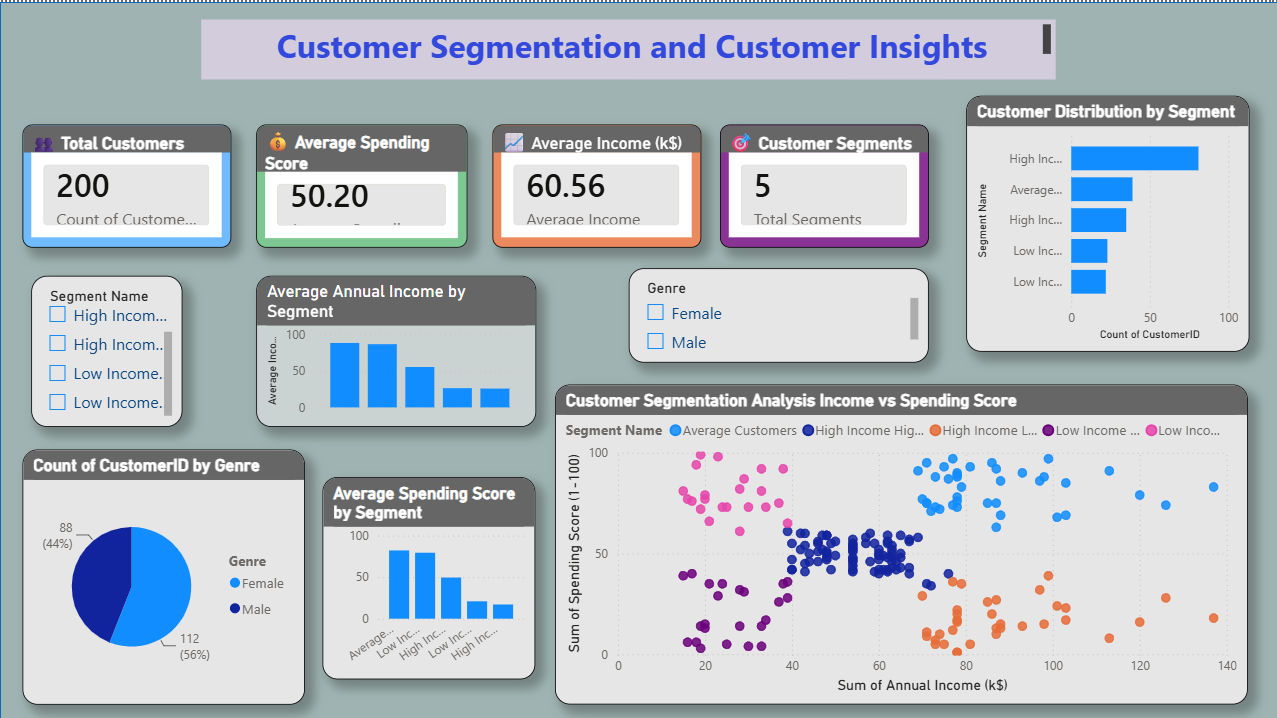

The dashboard page shown, as its layout file describes it:
{"tool":"powerbi","page":{"name":"Page 1","canvas":[1280,720],"ordinal":0},"visuals":[{"type":"shape","box":[0,0,1280,720],"z":0},{"type":"clusteredBarChart","title":"Customer Distribution by Segment","fields":{"Category":["Customer_Segments_Output.Segment Name"],"Y":["CountNonNull(Customer_Segments_Output.CustomerID)"]},"box":[965.7,94.3,282.9,255.7],"z":1000},{"type":"cardVisual","title":"👥 Total Customers","fields":{"Data":["CountNonNull(Customer_Segments_Output.CustomerID)"]},"box":[22.9,122.9,208.6,122.9],"z":2000},{"type":"cardVisual","title":"📈 Average Income (k$)","fields":{"Data":["Customer_Segments_Output.Average Income"]},"box":[492.9,122.9,208.6,122.9],"z":3000},{"type":"cardVisual","title":"💰 Average Spending Score","fields":{"Data":["Customer_Segments_Output.Average Spending"]},"box":[255.7,122.9,211.4,122.9],"z":4000},{"type":"pieChart","fields":{"Category":["Customer_Segments_Output.Genre"],"Y":["CountNonNull(Customer_Segments_Output.CustomerID)"]},"box":[22.5,447.5,282.5,255],"z":5000},{"type":"clusteredColumnChart","title":"Average Annual Income by Segment","fields":{"Category":["Customer_Segments_Output.Segment Name"],"Y":["Customer_Segments_Output.Average Income"]},"box":[255.7,274.3,280,151.4],"z":6000},{"type":"clusteredColumnChart","title":"Average Spending Score by Segment","fields":{"Category":["Customer_Segments_Output.Segment Name"],"Y":["Customer_Segments_Output.Average Spending"]},"box":[322.5,475,212.5,202.5],"z":7000},{"type":"scatterChart","title":"Customer Segmentation Analysis Income vs Spending Score","fields":{"X":["Sum(Customer_Segments_Output.Annual Income (k$))"],"Y":["Sum(Customer_Segments_Output.Spending Score (1-100))"],"Series":["Customer_Segments_Output.Segment Name"],"Category":["Customer_Segments_Output.CustomerID"]},"box":[555,382.5,692.5,320],"z":8000},{"type":"textbox","box":[201.4,17.1,854.3,60],"z":9000},{"type":"slicer","title":"Segment Name","fields":{"Values":["Customer_Segments_Output.Segment Name"]},"box":[31.4,274.3,151.4,151.4],"z":10000},{"type":"cardVisual","title":"🎯 Customer Segments","fields":{"Data":["Customer_Segments_Output.Total Segments"]},"box":[720,122.9,208.6,122.9],"z":11000},{"type":"slicer","fields":{"Values":["Customer_Segments_Output.Genre"]},"box":[628.6,265.7,300,94.3],"z":11001}]}

Visuals, with their boxes in screenshot pixels (x1, y1, x2, y2), scaled from the page's 1280x720 canvas onto the 1277x718 screenshot:
shape: BBox(0, 0, 1276, 717)
"Customer Distribution by Segment" clusteredBarChart: BBox(963, 94, 1246, 349)
"👥 Total Customers" cardVisual: BBox(23, 123, 231, 245)
"📈 Average Income (k$)" cardVisual: BBox(492, 123, 700, 245)
"💰 Average Spending Score" cardVisual: BBox(255, 123, 466, 245)
pieChart - Customer_Segments_Output.Genre x CountNonNull(Customer_Segments_Output.CustomerID): BBox(22, 446, 304, 701)
"Average Annual Income by Segment" clusteredColumnChart: BBox(255, 274, 534, 425)
"Average Spending Score by Segment" clusteredColumnChart: BBox(322, 474, 534, 676)
"Customer Segmentation Analysis Income vs Spending Score" scatterChart: BBox(554, 381, 1245, 701)
textbox: BBox(201, 17, 1053, 77)
"Segment Name" slicer: BBox(31, 274, 182, 425)
"🎯 Customer Segments" cardVisual: BBox(718, 123, 926, 245)
slicer - Customer_Segments_Output.Genre: BBox(627, 265, 926, 359)
